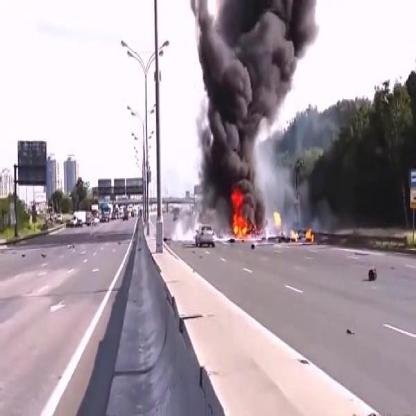fire: (228, 184, 268, 244), (272, 209, 283, 229), (304, 229, 315, 245), (288, 229, 299, 241)
